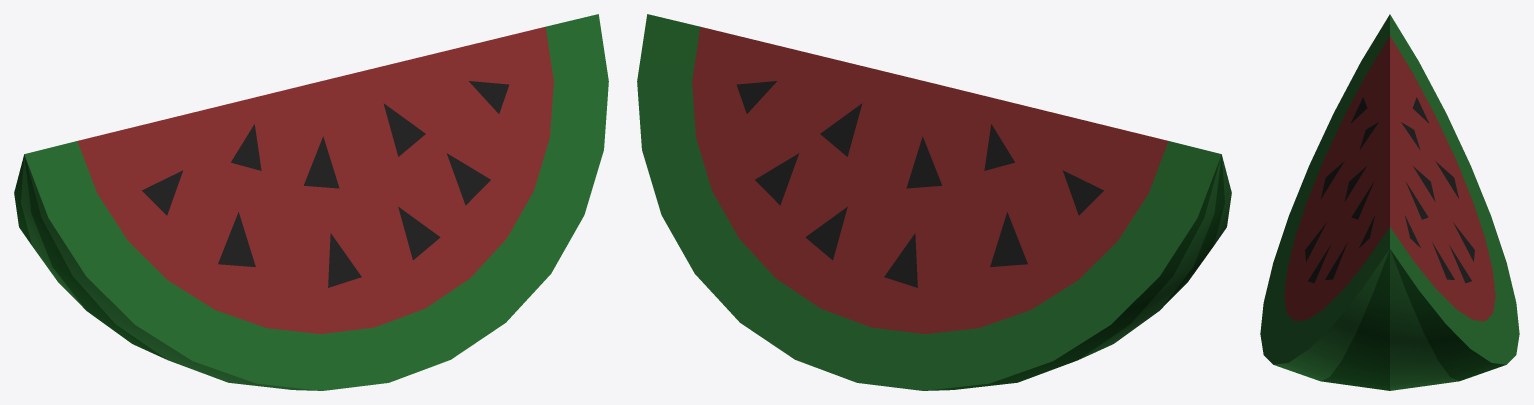
The model's file is food_watermelon_01.fbx.
3 renders of one model, left to right at view 1: azimuth 30°, elevation 25°; view 2: azimuth 150°, elevation 25°; view 3: azimuth 270°, elevation 25°, orthographic. The views are drawn at different scales.
Parts seen in each view (by area): view 1: food_watermelon_01; view 2: food_watermelon_01; view 3: food_watermelon_01.
Part boxes in pixels (<box>): food_watermelon_01: <box>14,14,608,390</box>; food_watermelon_01: <box>637,14,1231,390</box>; food_watermelon_01: <box>1260,14,1519,390</box>.
Bounding box in the file's own units: 72.86 × 33.61 × 34.02.
